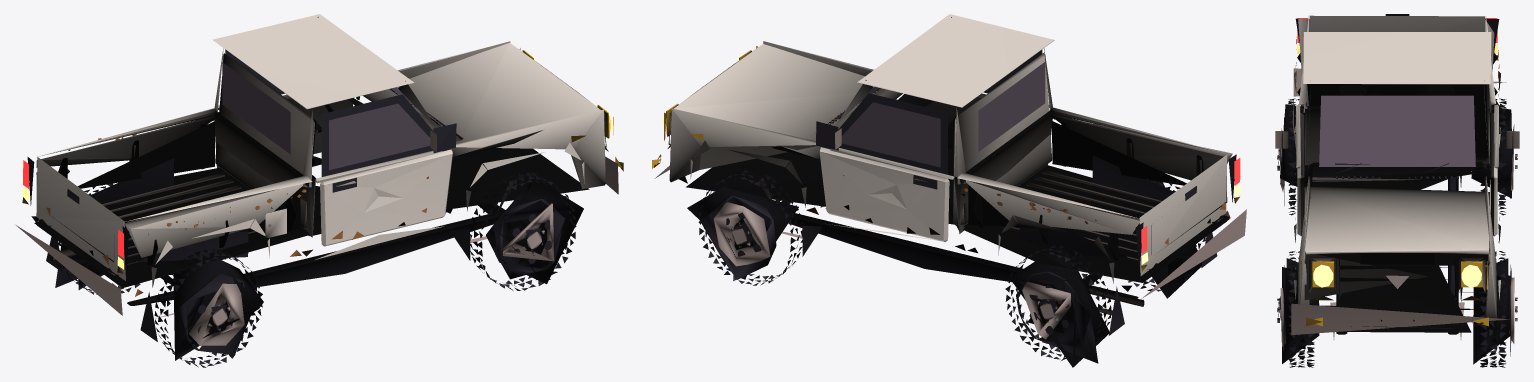
The model's file is veh.pickup-white.lod1.glb.
3 views of the same model, side by side, from view 1: azimuth 30°, elevation 25°; view 2: azimuth 150°, elevation 25°; view 3: azimuth 270°, elevation 25° (orthographic). The views are drawn at different scales.
Parts seen in each view (by area): view 1: body, object 8, wheelRR, wheelFR, wheelRL; view 2: body, object 8, wheelRL, wheelFL, wheelRR; view 3: body, object 8, wheelFL, wheelFR, wheelRL, wheelRR, lightsFront.
Boxes of the visible parts, x1,y1,x2,y2 form: body: [16, 14, 623, 341]; object 8: [23, 49, 612, 280]; wheelRR: [154, 248, 263, 367]; wheelFR: [470, 172, 583, 290]; wheelRL: [55, 183, 140, 294]; body: [652, 14, 1246, 335]; object 8: [663, 49, 1240, 275]; wheelRL: [1005, 243, 1111, 367]; wheelFL: [687, 169, 802, 285]; wheelRR: [1128, 180, 1205, 298]; body: [1286, 15, 1509, 340]; object 8: [1275, 14, 1519, 287]; wheelFL: [1473, 251, 1517, 367]; wheelFR: [1277, 251, 1319, 367]; wheelRL: [1471, 98, 1517, 215]; wheelRR: [1277, 98, 1309, 215]; lightsFront: [1300, 261, 1487, 300].
Size of the model in its own units: 4.3 by 1.83 by 1.78.
